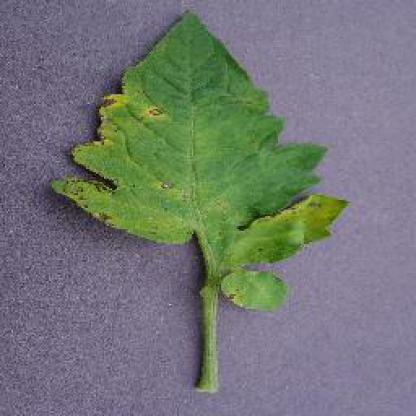bad leaf: (88, 43, 320, 280)
